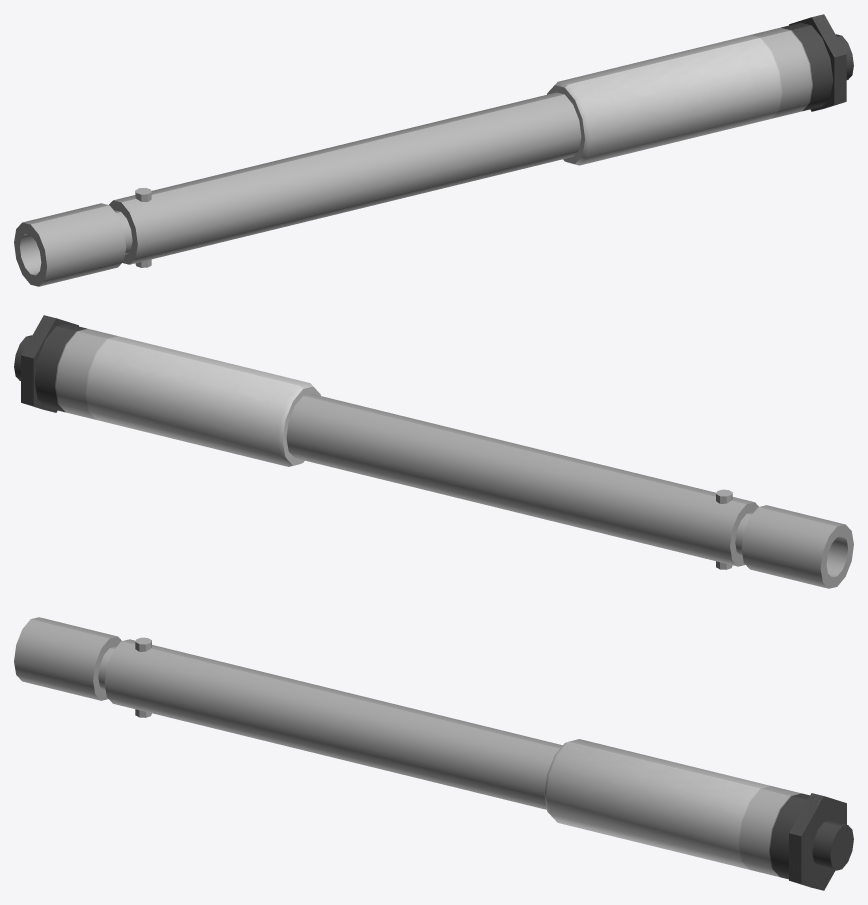
The model's file is tool_torque_wrench.001.glb.
The picture shows the model from 3 angles, top to bottom: view 1: azimuth 30°, elevation 25°; view 2: azimuth 150°, elevation 25°; view 3: azimuth 330°, elevation 25°; orthographic projection.
Parts seen in each view (by area): view 1: tool_torque_wrench.001; view 2: tool_torque_wrench.001; view 3: tool_torque_wrench.001.
Part boxes in pixels (x1,y1,x2,y2): tool_torque_wrench.001: (14,14,853,286); tool_torque_wrench.001: (14,315,853,588); tool_torque_wrench.001: (14,617,853,890).
Size of the model in its own units: 0.3002 by 0.0335 by 0.029.
Materials: 1 (1 with a texture image).
